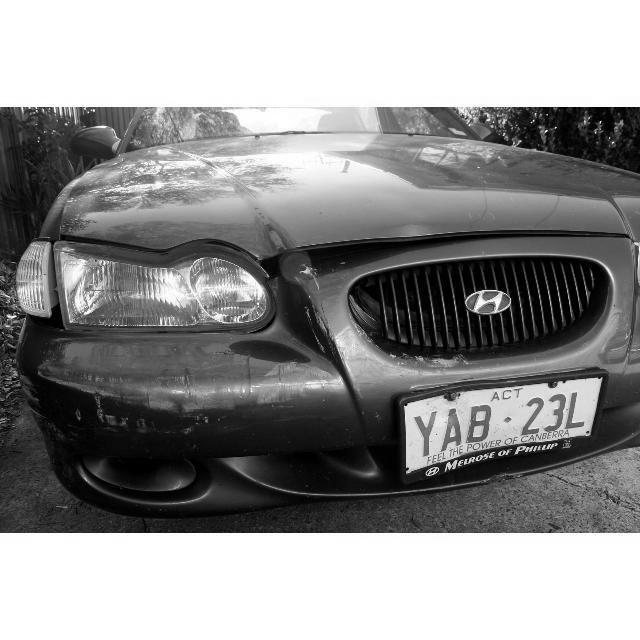front-bumper-dent: (49, 209, 604, 497)
